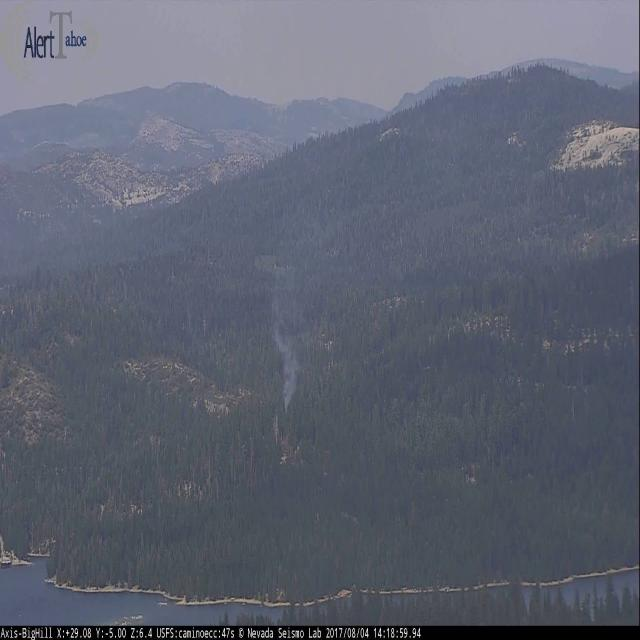smoke: (265, 269, 302, 421)
